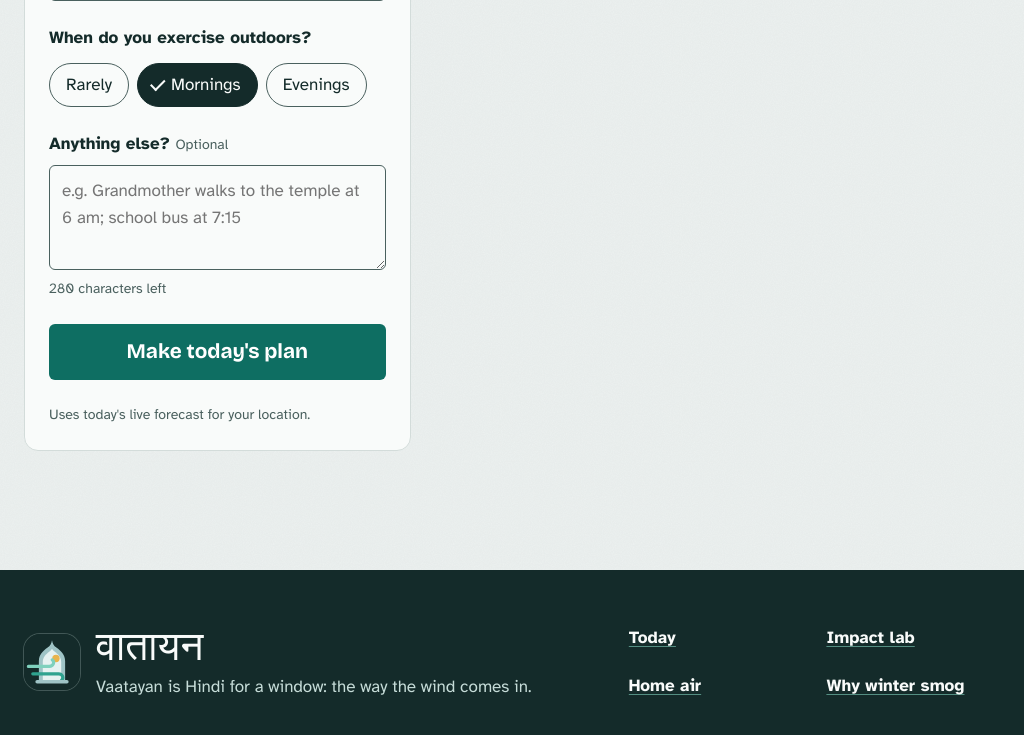
VaatayanApp: the Today page › loads live air, writes a plan and answers a follow-up
This screenshot has width=1024, height=735.
(page scrolled)
Click the button "Make today's plan" at (217, 352), box top-left (49, 324), bottom-right (386, 380)
(page scrolled)
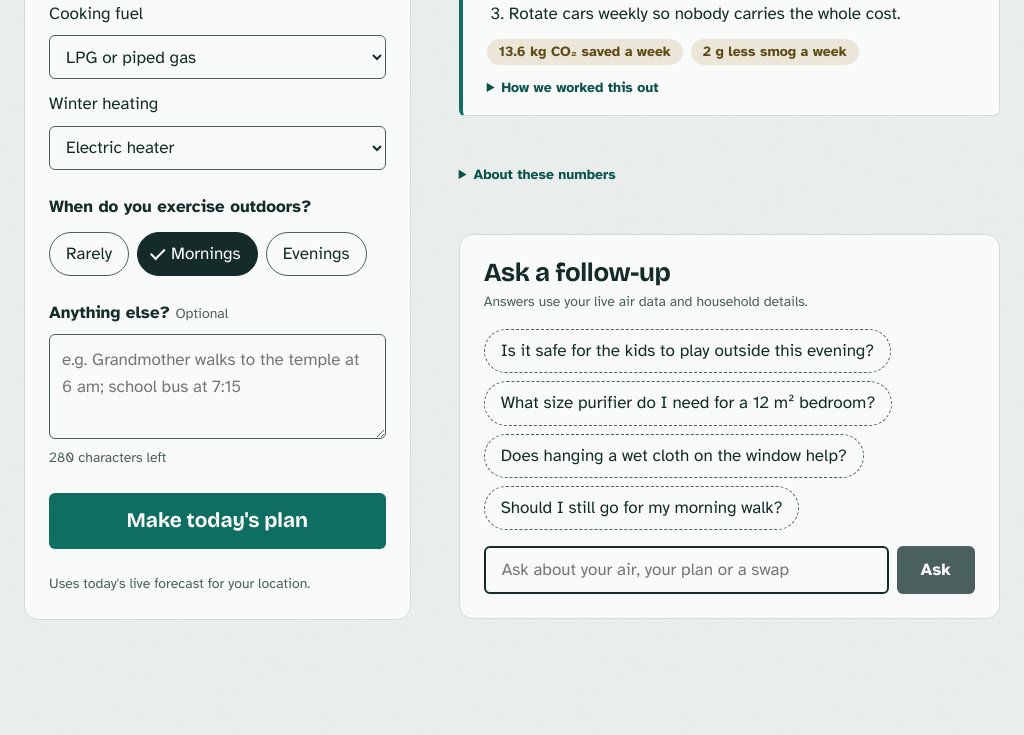
Click the button "Is it safe for the kids to play outside this evening?" at (687, 351), box top-left (484, 329), bottom-right (891, 373)
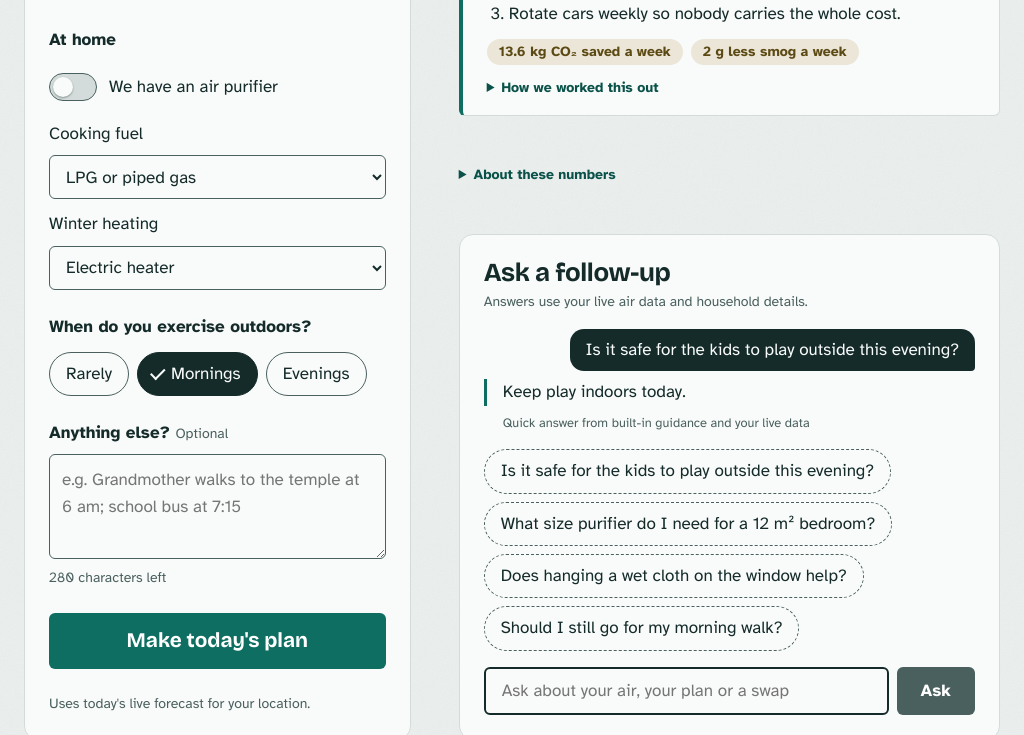
Check: the text "Keep play indoors today." is shown, box top-left (484, 379), bottom-right (975, 406)
Check: the text "Quick answer from built-in guidance and your live data" is shown, box top-left (503, 414), bottom-right (810, 430)
